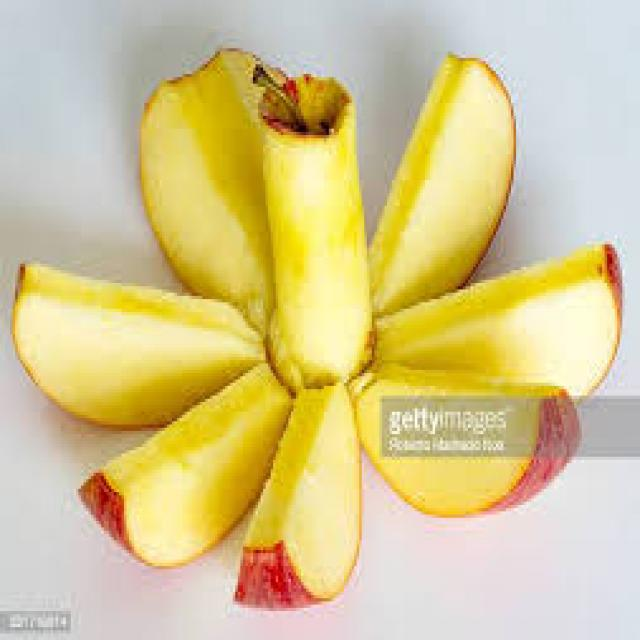Apple: (65, 367, 286, 579), (248, 63, 378, 399), (366, 243, 626, 401), (8, 260, 262, 418), (140, 49, 276, 330), (366, 46, 518, 290), (365, 359, 568, 522), (234, 393, 369, 603)
